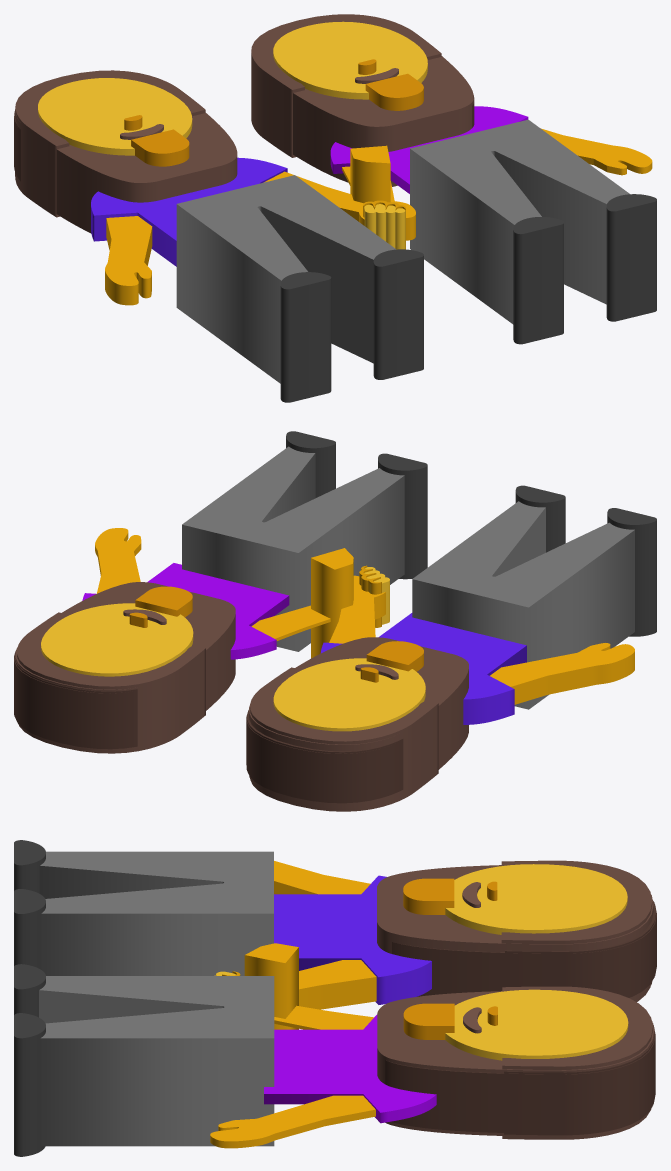
File: emoji_u1f46d.glb
The picture shows the model from 3 angles, top to bottom: view 1: azimuth 30°, elevation 25°; view 2: azimuth 150°, elevation 25°; view 3: azimuth 270°, elevation 25°; orthographic projection. The views are drawn at different scales.
Parts seen in each view (by area): view 1: emoji_u1f46d; view 2: emoji_u1f46d; view 3: emoji_u1f46d.
Boxes of the visible parts, x1,y1,x2,y2 form: emoji_u1f46d: (14,14,656,402); emoji_u1f46d: (14,431,656,811); emoji_u1f46d: (14,840,656,1156).
Bounding box in the file's own units: 0.0346 × 0.007 × 0.0334.
